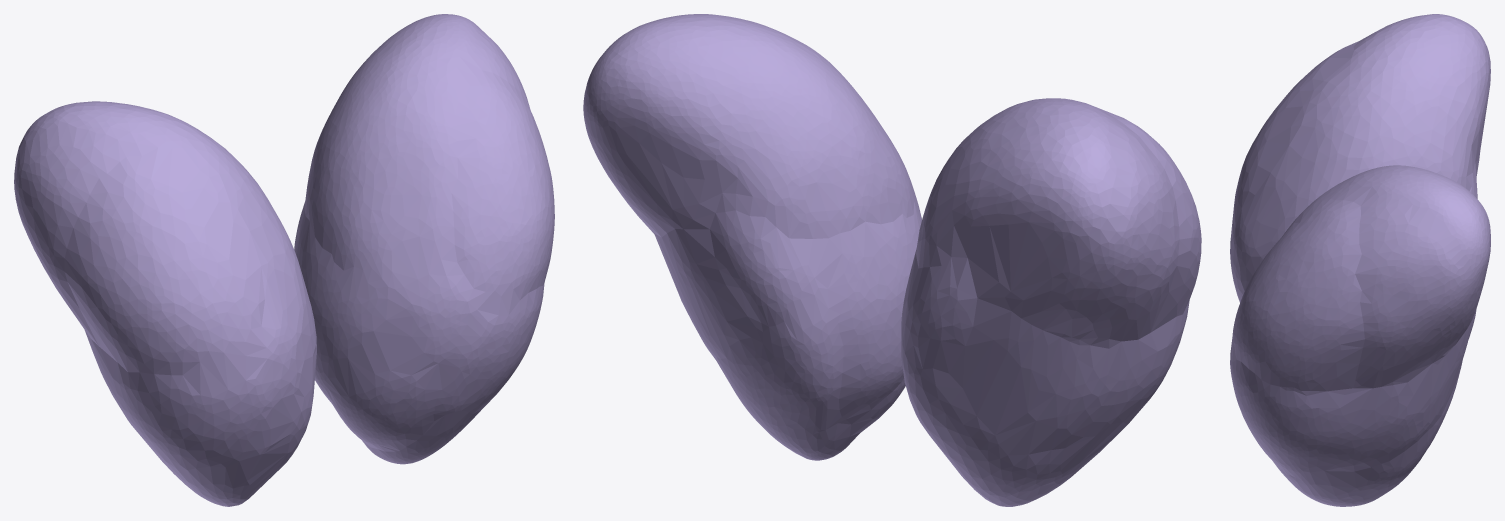
Rendered from thalamus.glb.
The picture shows the model from 3 angles, left to right: view 1: azimuth 30°, elevation 25°; view 2: azimuth 150°, elevation 25°; view 3: azimuth 270°, elevation 25°; orthographic projection. The views are drawn at different scales.
Parts seen in each view (by area): view 1: world; view 2: world; view 3: world.
Boxes of the visible parts, x1=… form: world: x1=14, y1=14, x2=554, y2=506; world: x1=583, y1=14, x2=1201, y2=506; world: x1=1230, y1=14, x2=1490, y2=506.
Bounding box in the file's own units: 2 × 1.52 × 0.9867.
